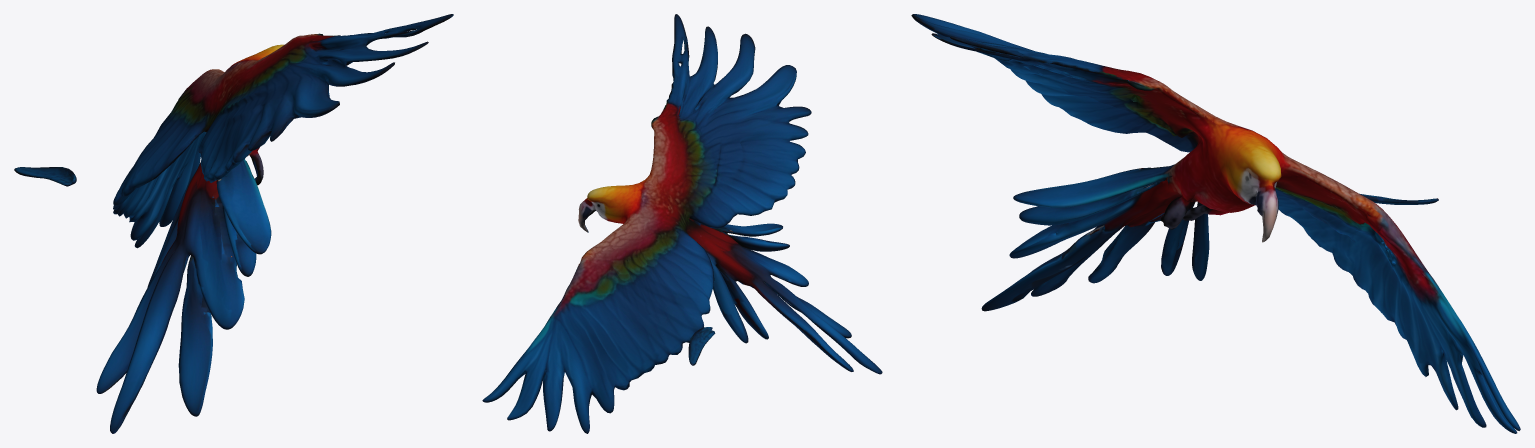
File: guacamaya roja.glb
3 renders of one model, left to right at view 1: azimuth 30°, elevation 25°; view 2: azimuth 150°, elevation 25°; view 3: azimuth 270°, elevation 25°, orthographic. The views are drawn at different scales.
Visible parts, largest first — view 1: tripo_node_5167a12f; view 2: tripo_node_5167a12f; view 3: tripo_node_5167a12f.
Part boxes in pixels (box(x1,y1,x2,y2)): tripo_node_5167a12f: box(14, 14, 453, 433); tripo_node_5167a12f: box(482, 14, 882, 433); tripo_node_5167a12f: box(911, 14, 1520, 433).
Size of the model in its own units: 2.6 by 2.91 by 3.7.
Materials: 1 (1 with a texture image).
